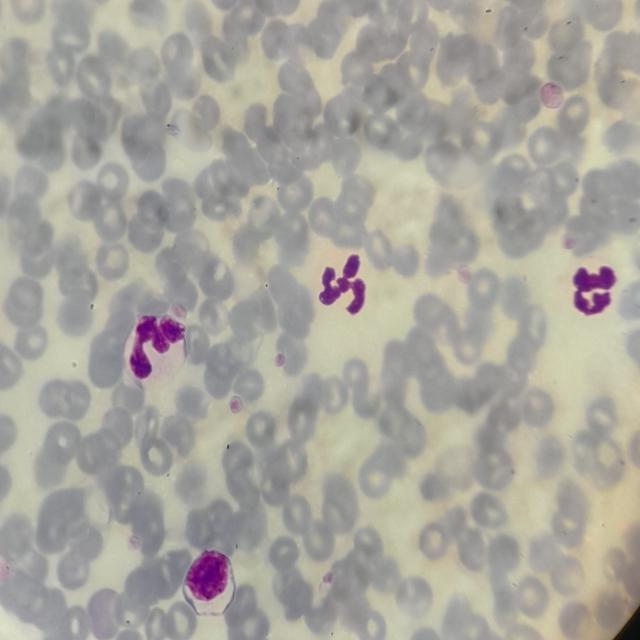Neutrofilo: (122, 312, 189, 389), (314, 253, 372, 317), (567, 259, 622, 320)
